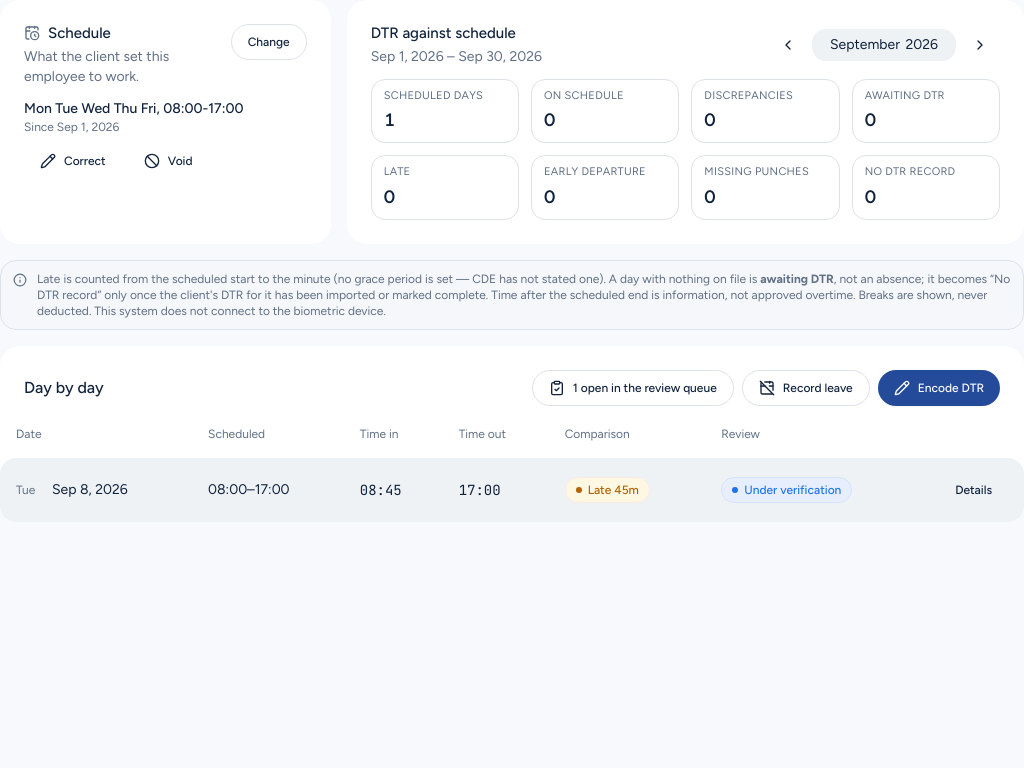
Test: Attendance panel › shows where a flagged day stands and sends review decisions to that day in the queue
Expected: the text "Under verification" is shown, x1=721 y1=477 x2=852 y2=503
What coordinates should you click on to do the following:
click the button "Details"
I would click on:
 (974, 490)
Its box is x1=939 y1=472 x2=1008 y2=508.
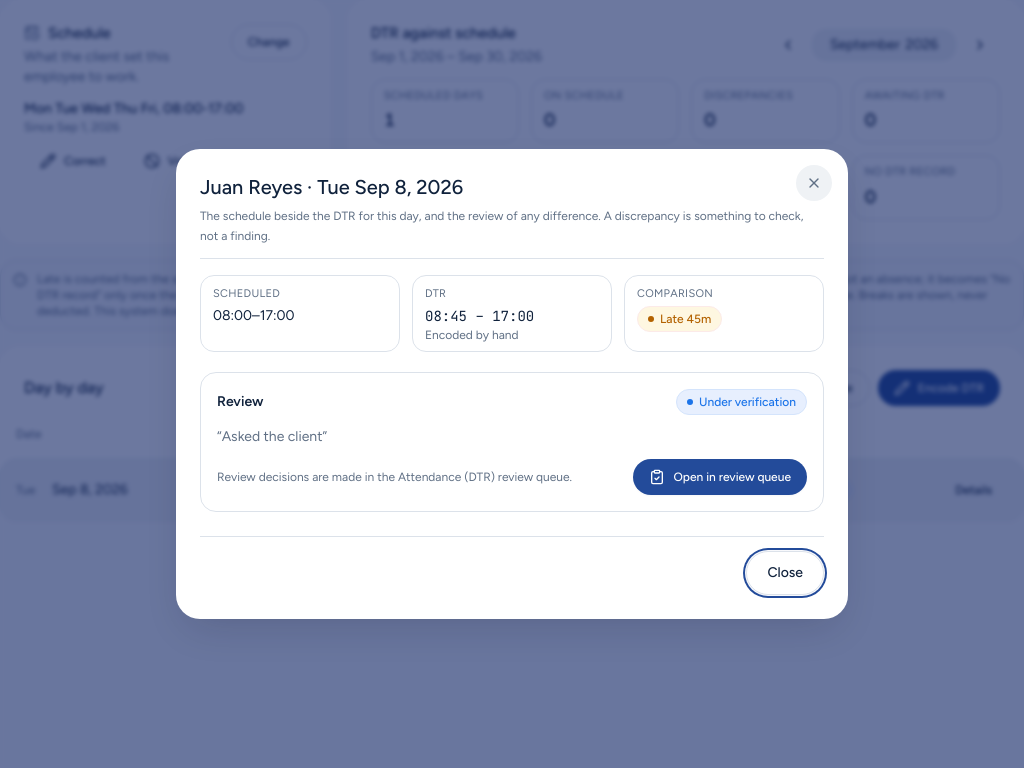
Now the text "“Asked the client”" is shown, box x1=217 y1=428 x2=327 y2=445
